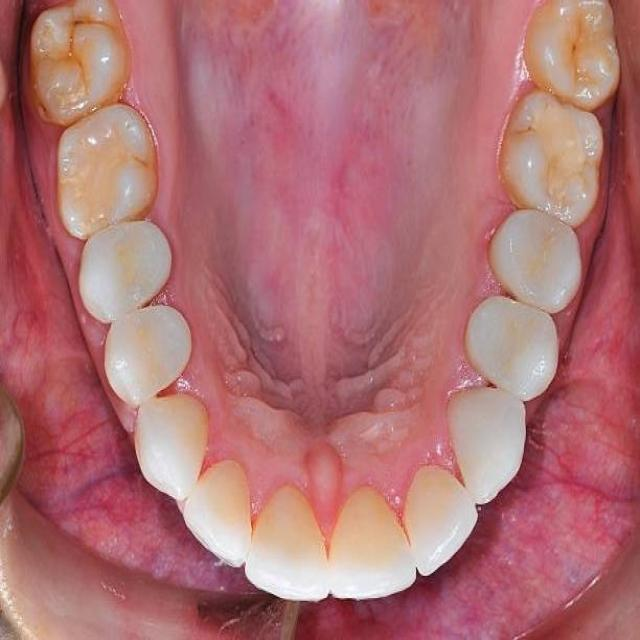caries: (530, 112, 596, 209), (49, 4, 110, 92), (556, 15, 599, 85)
